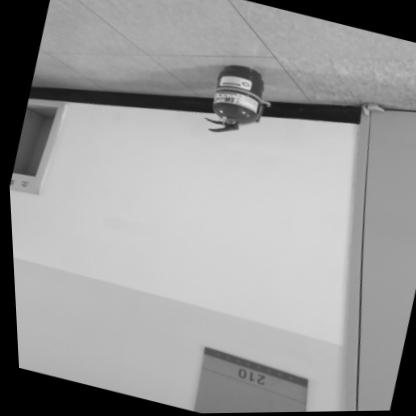FE: (195, 59, 271, 143)
